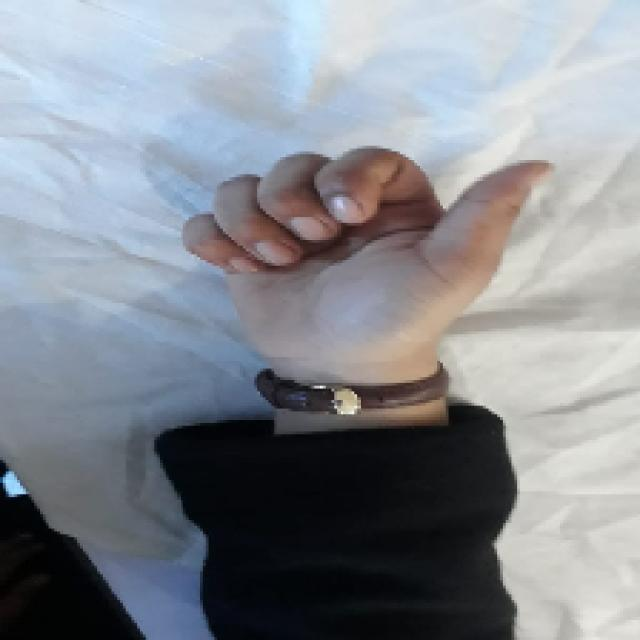Nail: (329, 196, 364, 223), (290, 217, 328, 241), (256, 241, 290, 266), (229, 256, 256, 273)
